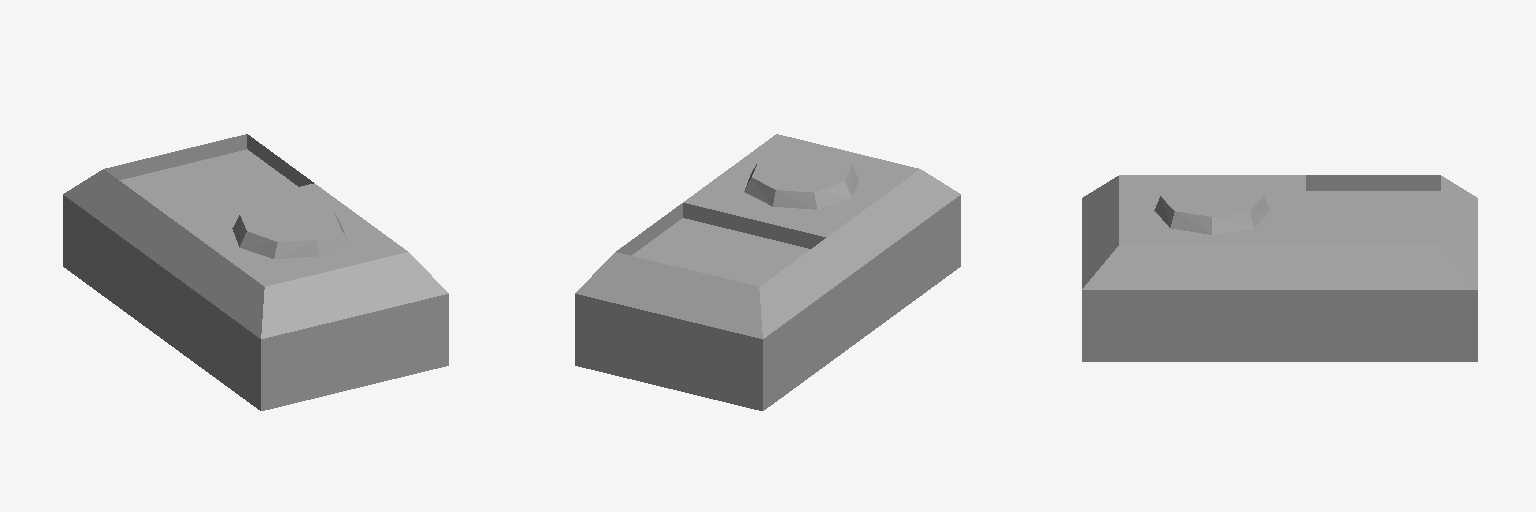
The model's file is Button.obj.
The picture shows the model from 3 angles: view 1: azimuth 30°, elevation 25°; view 2: azimuth 150°, elevation 25°; view 3: azimuth 270°, elevation 25°; orthographic projection.
Visible parts, largest first — view 1: Scene_Root_0_0; view 2: Scene_Root_0_0; view 3: Scene_Root_0_0.
Boxes of the visible parts, x1=… form: Scene_Root_0_0: x1=63, y1=134, x2=448, y2=410; Scene_Root_0_0: x1=575, y1=134, x2=960, y2=410; Scene_Root_0_0: x1=1082, y1=175, x2=1477, y2=361.
Bounding box in the file's own units: 2.76 × 1.69 × 5.04.